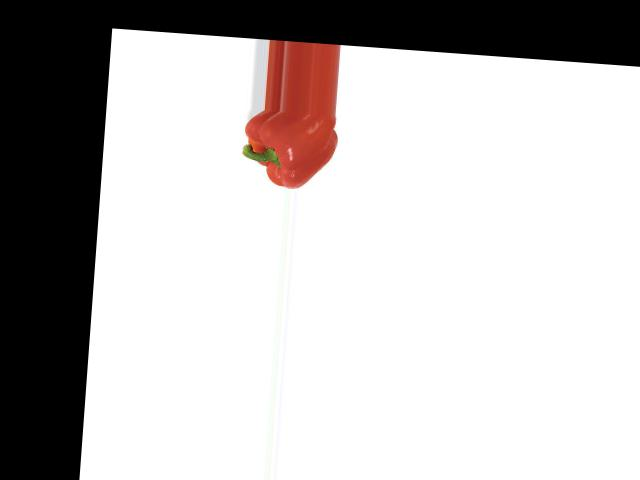bell_pepper: (227, 107, 350, 192)
